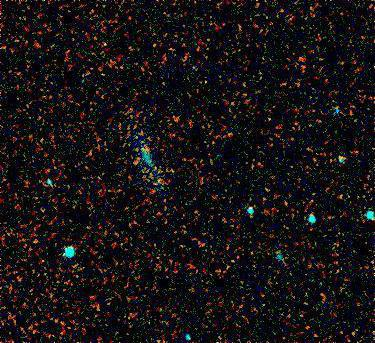star: (122, 151, 152, 181)
